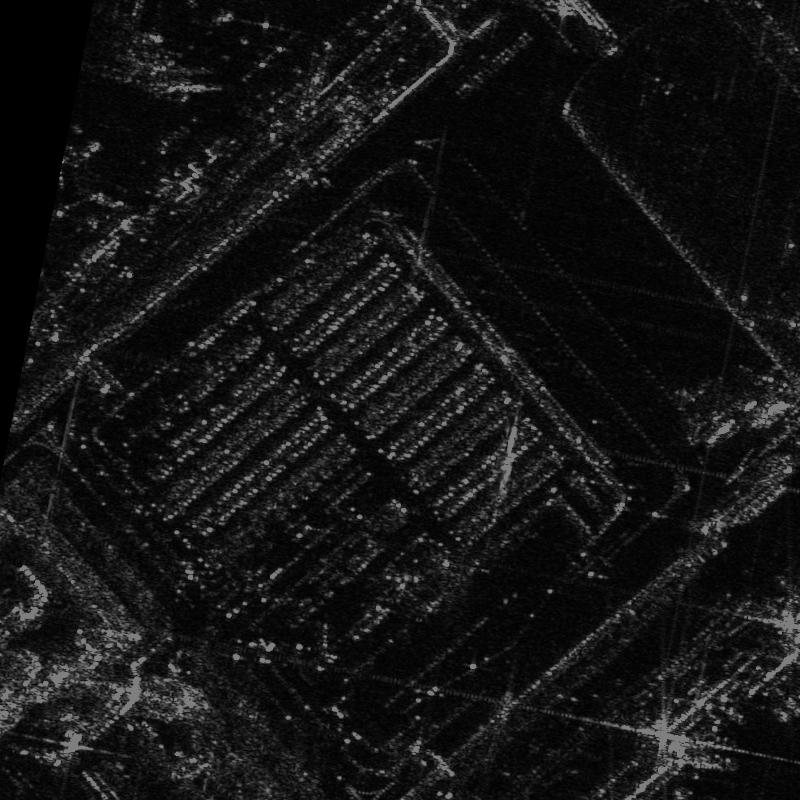Boeing737: (83, 1, 170, 69)
